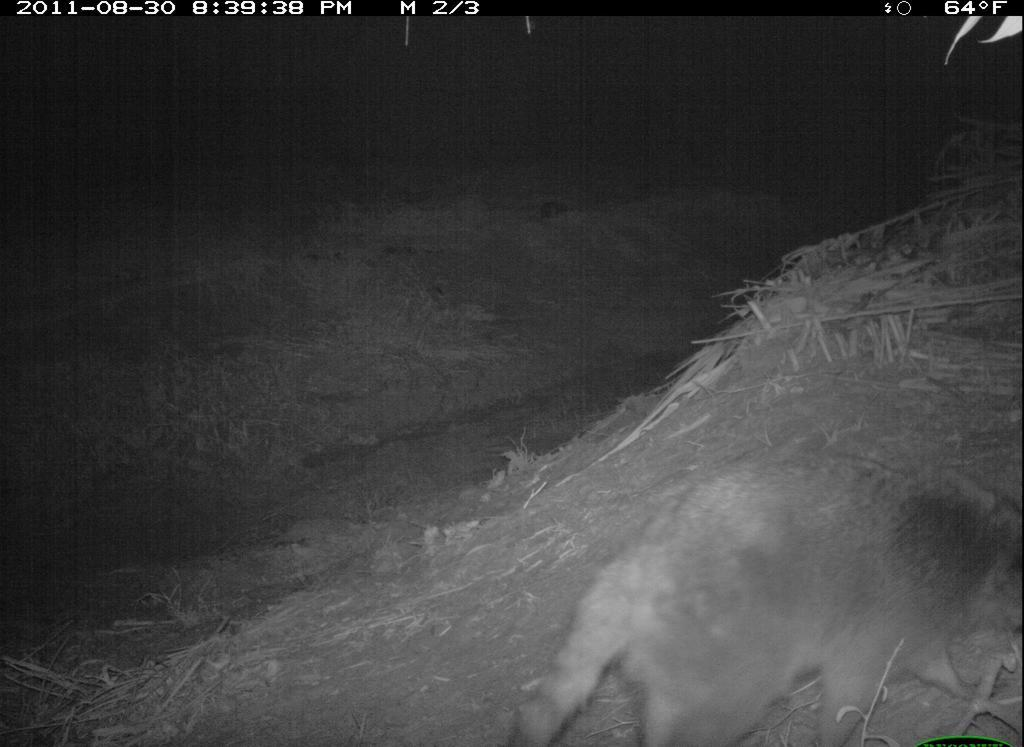raccoon: (513, 445, 1022, 738)
